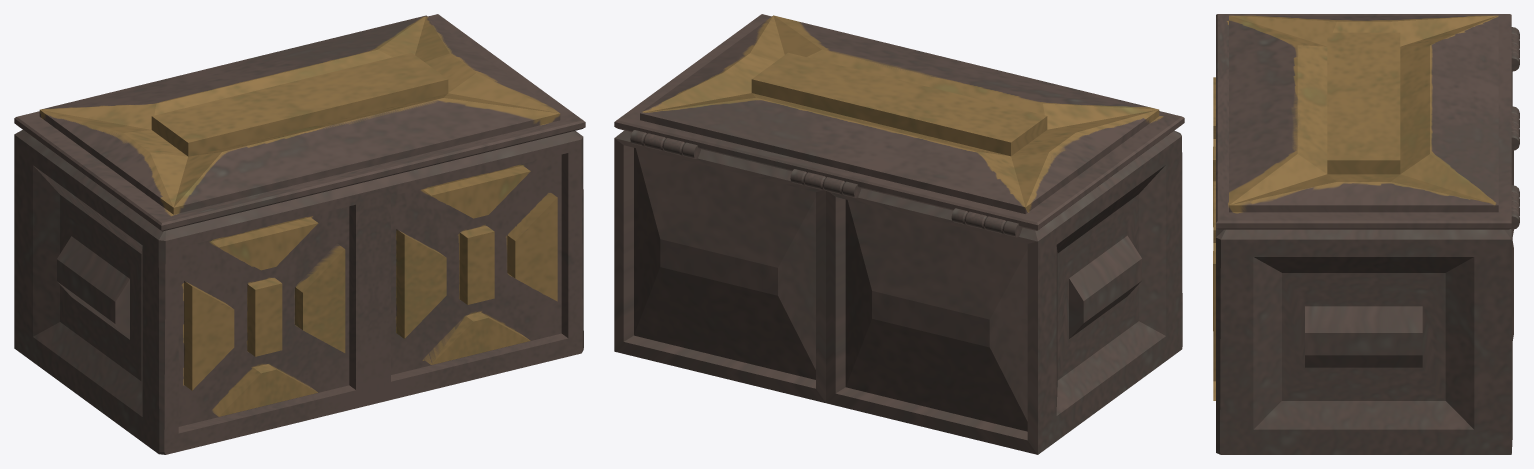
Rendered from AmmoCrate.fbx.
3 views of the same model, side by side, from view 1: azimuth 30°, elevation 25°; view 2: azimuth 150°, elevation 25°; view 3: azimuth 270°, elevation 25° (orthographic).
Visible parts, largest first — view 1: polySurface4, polySurface5; view 2: polySurface4, polySurface5, polySurface2, polySurface3, polySurface1; view 3: polySurface4, polySurface5, polySurface1, polySurface2, polySurface3.
Boxes of the visible parts, box(x1,y1,x2,y2) form: polySurface4: box(14, 130, 583, 454); polySurface5: box(14, 14, 585, 231); polySurface4: box(614, 130, 1182, 454); polySurface5: box(614, 14, 1184, 230); polySurface2: box(790, 169, 861, 197); polySurface3: box(630, 130, 700, 158); polySurface1: box(951, 208, 1022, 237); polySurface4: box(1213, 71, 1513, 454); polySurface5: box(1216, 14, 1511, 229); polySurface1: box(1511, 27, 1519, 71); polySurface2: box(1511, 106, 1519, 150); polySurface3: box(1511, 185, 1519, 229).
Bounding box in the file's own units: 80.64 × 45.49 × 49.76.
